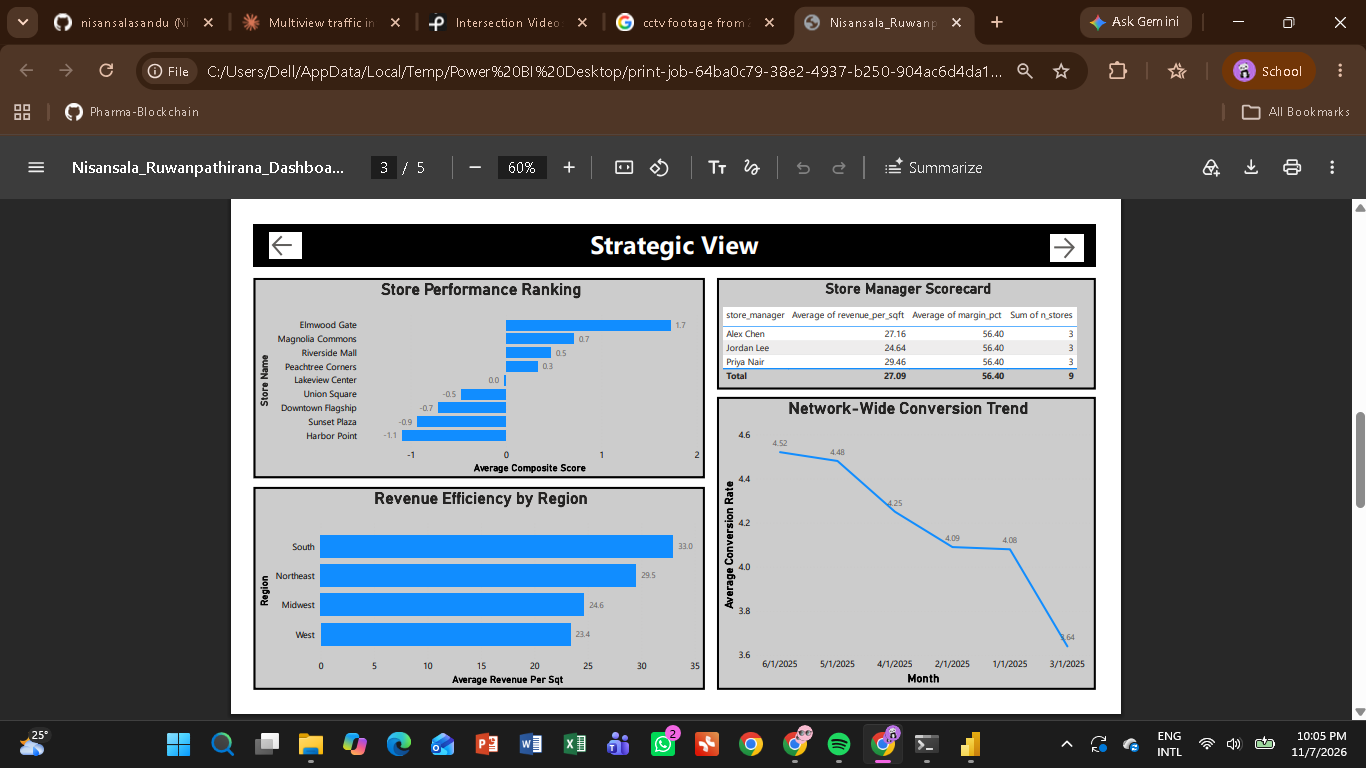

The dashboard page shown, as its layout file describes it:
{"tool":"powerbi","page":{"name":"strategic View","canvas":[1280,720],"ordinal":2},"visuals":[{"type":"clusteredBarChart","title":"Store Performance Ranking","fields":{"Category":["store_kpi.store_name"],"Y":["Avg(store_kpi.composite_score)"]},"box":[11.4,94.6,671.8,298.4],"z":0},{"type":"clusteredBarChart","title":"Revenue Efficiency by Region","fields":{"Category":["region_kpi.region"],"Y":["Avg(region_kpi.revenue_per_sqft)"]},"box":[11.4,406,671.8,301.7],"z":1000},{"type":"tableEx","title":"Store Manager Scorecard","fields":{"Values":["mgr_kpi.store_manager","Avg(mgr_kpi.revenue_per_sqft)","Avg(mgr_kpi.margin_pct)","Sum(mgr_kpi.n_stores)"]},"box":[701.2,94.6,564.2,166.3],"z":2000},{"type":"lineChart","title":"Network-Wide Conversion Trend","fields":{"Category":["conv_trend.month_str"],"Y":["Avg(conv_trend.conversion_rate_pct)"]},"box":[701.2,272.3,564.2,435.4],"z":3000},{"type":"textbox","box":[11.4,14.7,1253.9,63.6],"z":4000},{"type":"actionButton","box":[1197.4,30.2,49.7,40.8],"z":5000},{"type":"actionButton","box":[33.7,26.6,49.7,40.8],"z":6000}]}

Visuals, with their boxes on the page's 1280x720 design canvas (x1, y1, x2, y2). These are canvas units, not pixel positions in the 1366x768 screenshot, which may show the page scaled, cropped or inside an application window:
"Store Performance Ranking" clusteredBarChart: 11, 95, 683, 393
"Revenue Efficiency by Region" clusteredBarChart: 11, 406, 683, 708
"Store Manager Scorecard" tableEx: 701, 95, 1265, 261
"Network-Wide Conversion Trend" lineChart: 701, 272, 1265, 708
textbox: 11, 15, 1265, 78
actionButton: 1197, 30, 1247, 71
actionButton: 34, 27, 83, 67
